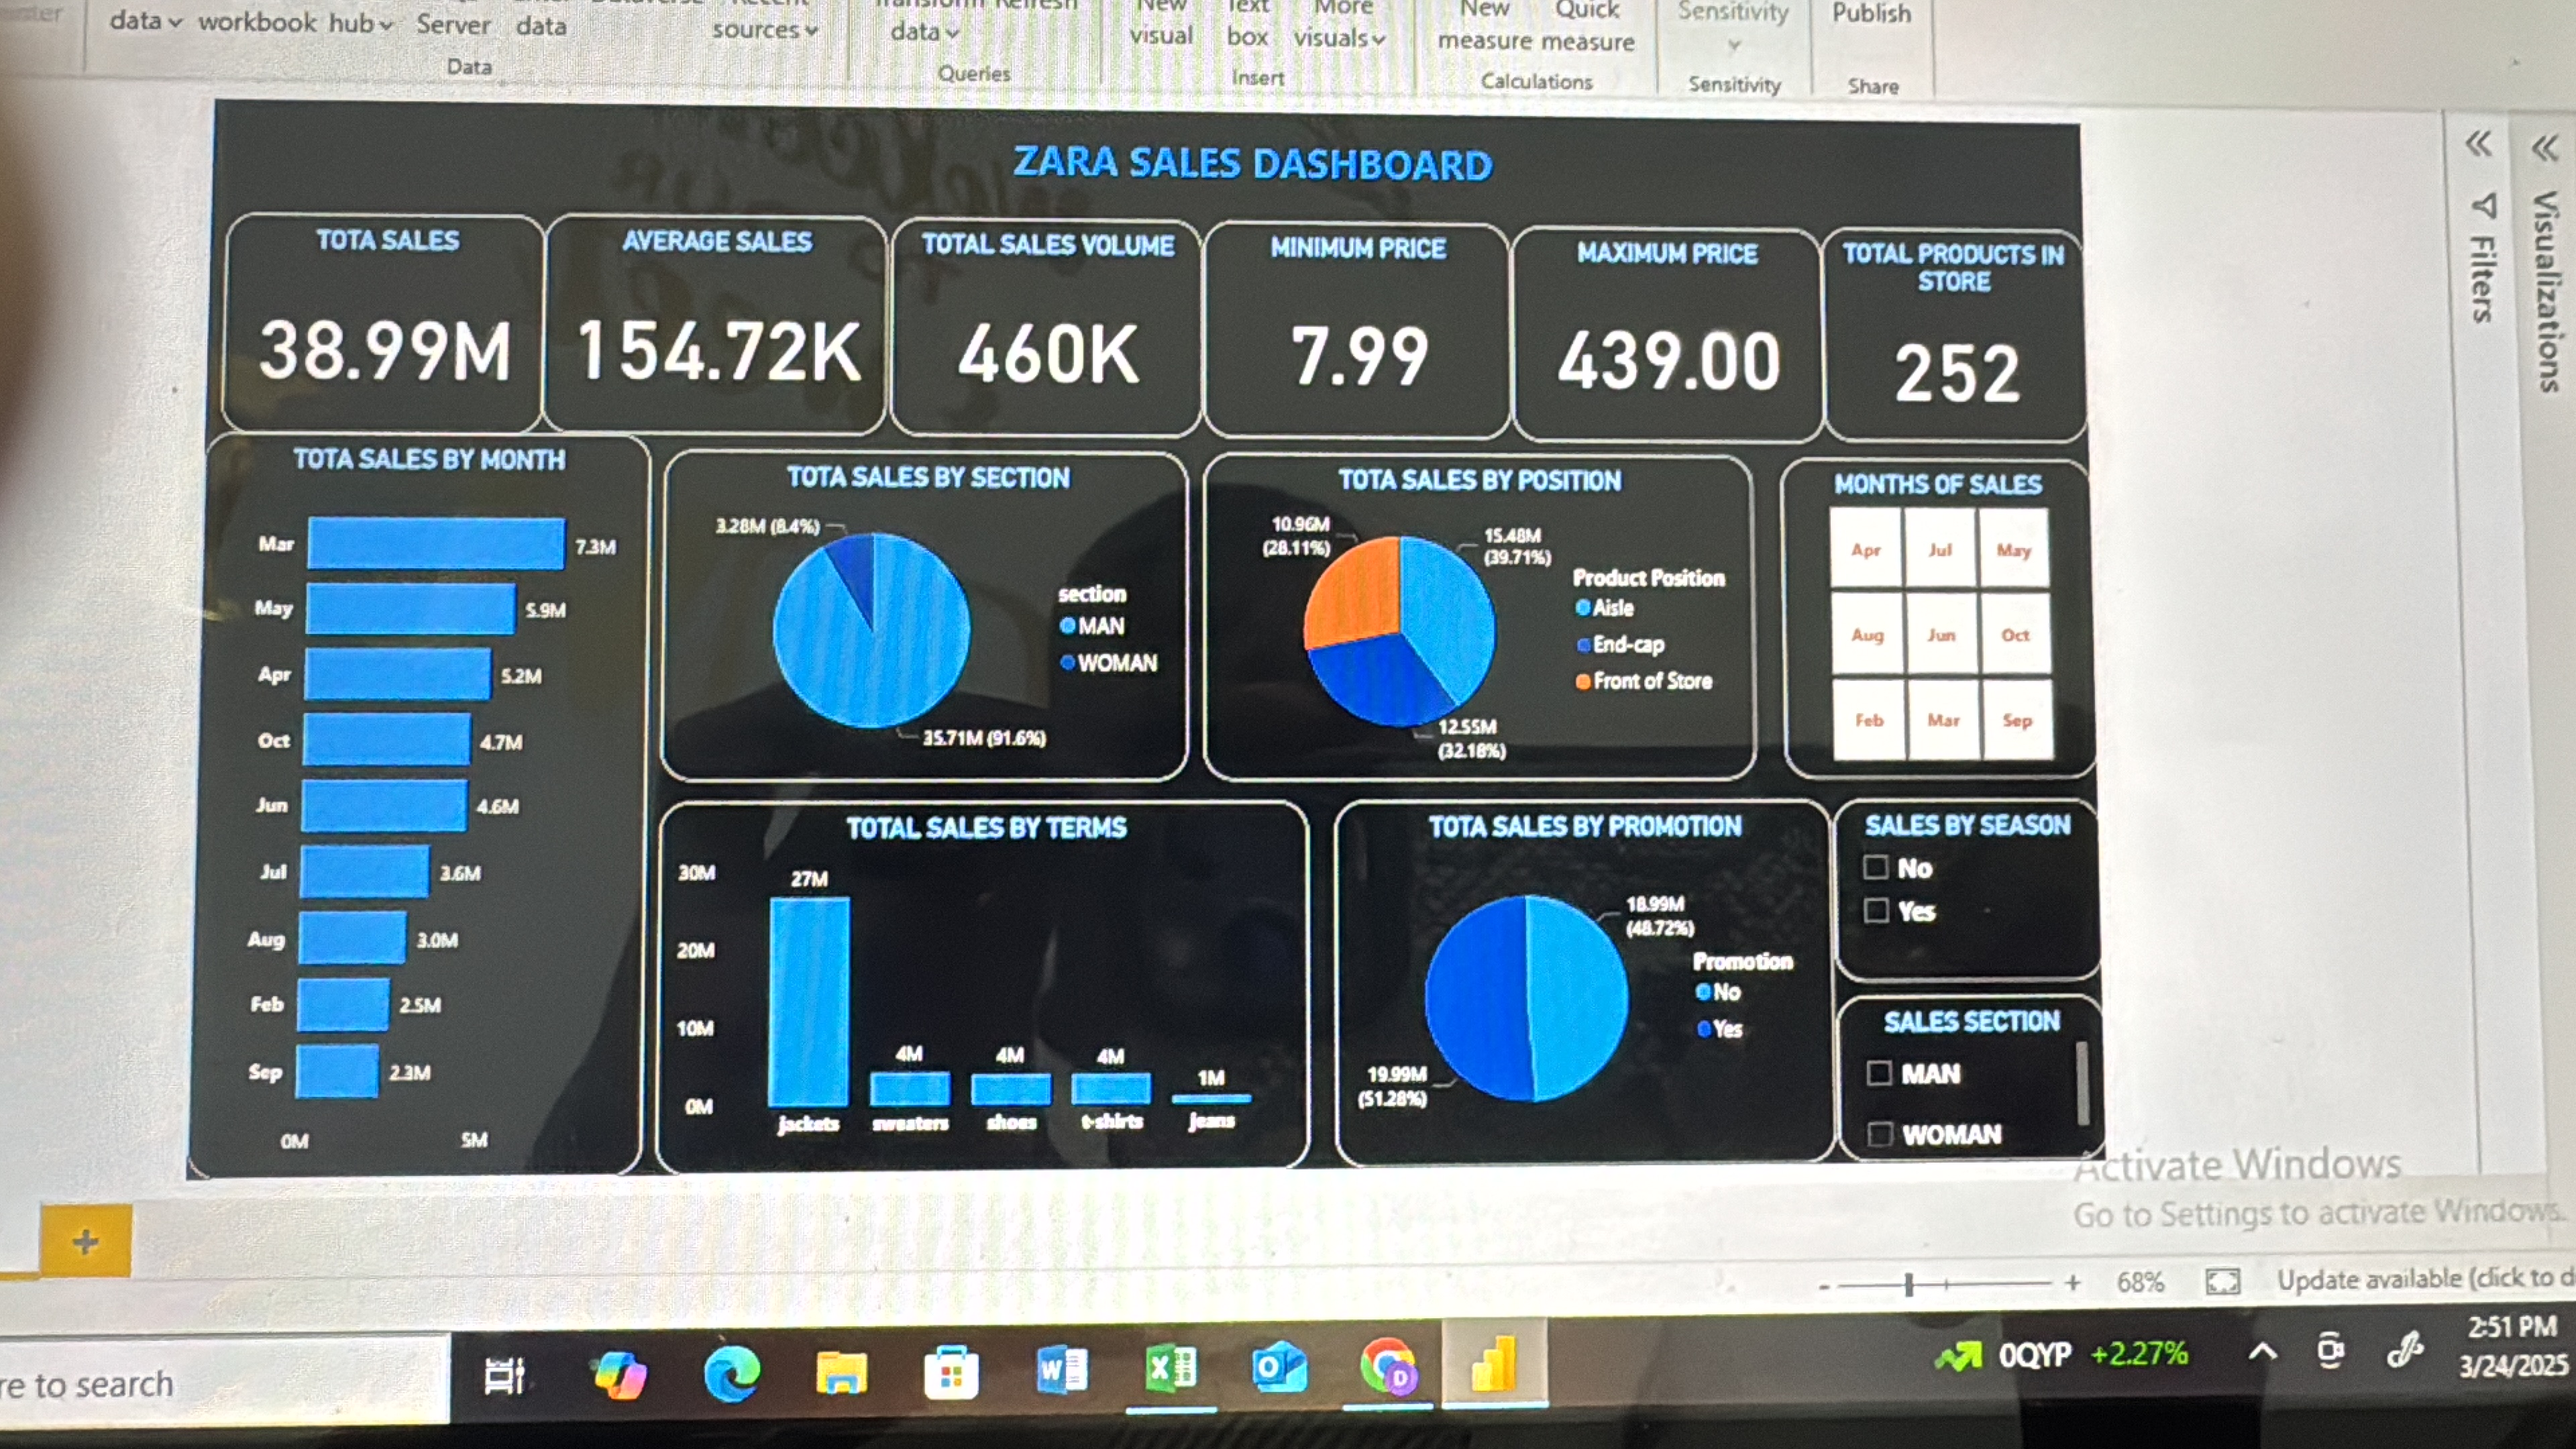

This screenshot's page, from the dashboard's own definition file:
{"tool":"powerbi","page":{"name":"Page 1","canvas":[1280,720],"ordinal":0},"visuals":[{"type":"card","title":"TOTA SALES","fields":{"Values":["Sum(Zara Sales.total sales )"]},"box":[10.1,77.3,211.7,149.5],"z":0},{"type":"card","title":"AVERAGE SALES","fields":{"Values":["Avg(Zara Sales.total sales )"]},"box":[221.1,78,229.6,150.2],"z":1000},{"type":"card","title":"TOTAL SALES VOLUME","fields":{"Values":["Sum(Zara Sales.Sales Volume)"]},"box":[453.5,76.5,211.2,150.2],"z":2000},{"type":"card","title":"MINIMUM PRICE","fields":{"Values":["Min(Zara Sales.price)"]},"box":[664.7,76.5,211.2,150.2],"z":3000},{"type":"card","title":"MAXIMUM PRICE","fields":{"Values":["Max(Zara Sales.price)"]},"box":[876.9,77.3,216.7,149.5],"z":4000},{"type":"slicer","title":"SALES SECTION","fields":{"Values":["Zara Sales.section"]},"box":[1094,607.5,186.6,111.9],"z":5000},{"type":"clusteredBarChart","title":"TOTAl SALES BY MONTH","fields":{"Y":["Sum(Zara Sales.total sales )"],"Category":["Zara Sales.months"]},"box":[0,226.8,294,493.9],"z":6000},{"type":"clusteredColumnChart","title":"TOTAL SALES BY TERMS","fields":{"Category":["Zara Sales.terms"],"Y":["Sum(Zara Sales.total sales )"]},"box":[303.3,473.3,431.7,246.7],"z":7000},{"type":"pieChart","title":"TOTAl SALES BY SECTION","fields":{"Y":["Sum(Zara Sales.total sales )"],"Series":["Zara Sales.section"]},"box":[303.3,236.7,351.5,222.5],"z":8000},{"type":"pieChart","title":"TOTAl SALES BY POSITION","fields":{"Y":["Sum(Zara Sales.total sales )"],"Category":["Zara Sales.Product Position"]},"box":[664.7,236.7,377,222.5],"z":9000},{"type":"slicer","title":"MONTHS OF SALES","fields":{"Values":["Zara Sales.months"]},"box":[1053.1,238.1,226.8,221.1],"z":10000},{"type":"card","title":"TOTAL PRODUCTS IN STORE","fields":{"Values":["CountNonNull(Zara Sales.Product ID)"]},"box":[1093.3,76.7,186.7,150],"z":11000},{"type":"slicer","title":"SALES BY SEASON","fields":{"Values":["Zara Sales.Seasonal"]},"box":[1094,473.1,186.6,123.9],"z":12000},{"type":"pieChart","title":"TOTAl SALES BY PROMOTION","fields":{"Y":["Sum(Zara Sales.total sales )"],"Series":["Zara Sales.Promotion"]},"box":[752.2,473.1,340.3,246.3],"z":13000},{"type":"textbox","box":[323.5,11.8,752.9,51.5],"z":14000},{"type":"image","box":[0,0,85,78],"z":14001}]}

Visuals, with their boxes on the page's 1280x720 design canvas (x1, y1, x2, y2). These are canvas units, not pixel positions in the 2576x1449 screenshot, which may show the page scaled, cropped or inside an application window:
"TOTA SALES" card: (10,77,222,227)
"AVERAGE SALES" card: (221,78,451,228)
"TOTAL SALES VOLUME" card: (454,76,665,227)
"MINIMUM PRICE" card: (665,76,876,227)
"MAXIMUM PRICE" card: (877,77,1094,227)
"SALES SECTION" slicer: (1094,608,1281,719)
"TOTAl SALES BY MONTH" clusteredBarChart: (0,227,294,721)
"TOTAL SALES BY TERMS" clusteredColumnChart: (303,473,735,720)
"TOTAl SALES BY SECTION" pieChart: (303,237,655,459)
"TOTAl SALES BY POSITION" pieChart: (665,237,1042,459)
"MONTHS OF SALES" slicer: (1053,238,1280,459)
"TOTAL PRODUCTS IN STORE" card: (1093,77,1280,227)
"SALES BY SEASON" slicer: (1094,473,1281,597)
"TOTAl SALES BY PROMOTION" pieChart: (752,473,1092,719)
textbox: (324,12,1076,63)
image: (0,0,85,78)
